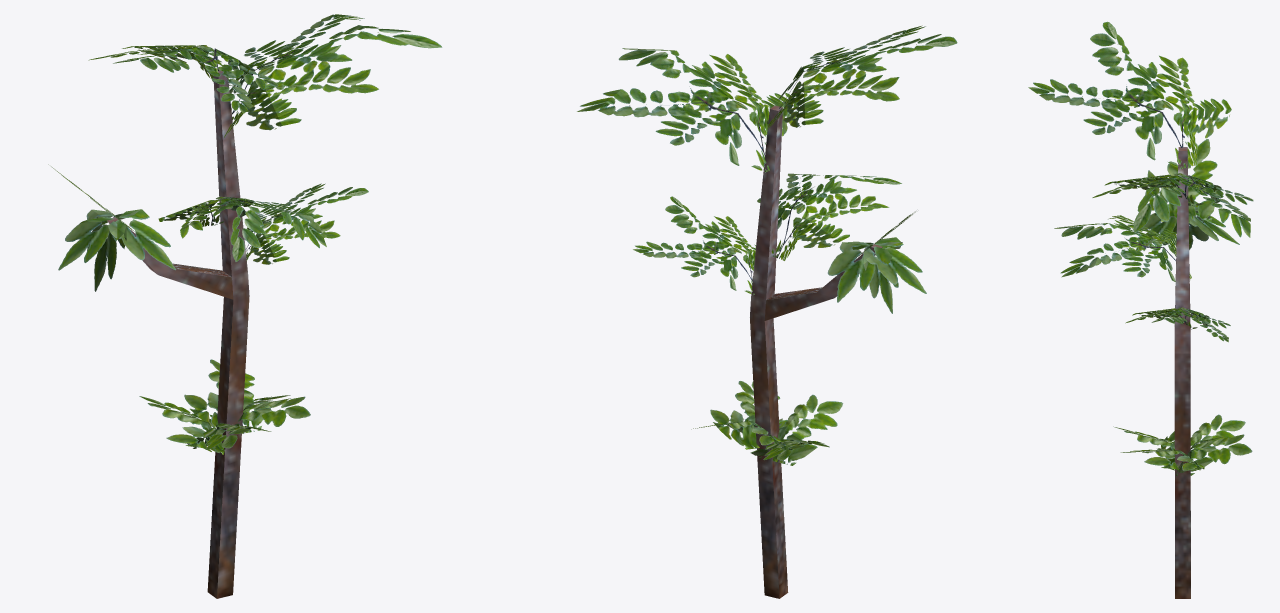
The model's file is MESH_Tree_02.fbx.
3 renders of one model, left to right at view 1: azimuth 30°, elevation 25°; view 2: azimuth 150°, elevation 25°; view 3: azimuth 270°, elevation 25°, orthographic. The views are drawn at different scales.
Visible parts, largest first — view 1: MESH_Tree_02; view 2: MESH_Tree_02; view 3: MESH_Tree_02.
Boxes of the visible parts, <box> form: MESH_Tree_02: <box>48,14,442,598</box>; MESH_Tree_02: <box>577,25,957,598</box>; MESH_Tree_02: <box>1028,21,1253,598</box>.
Bounding box in the file's own units: 1.51 × 1.97 × 0.9158.
